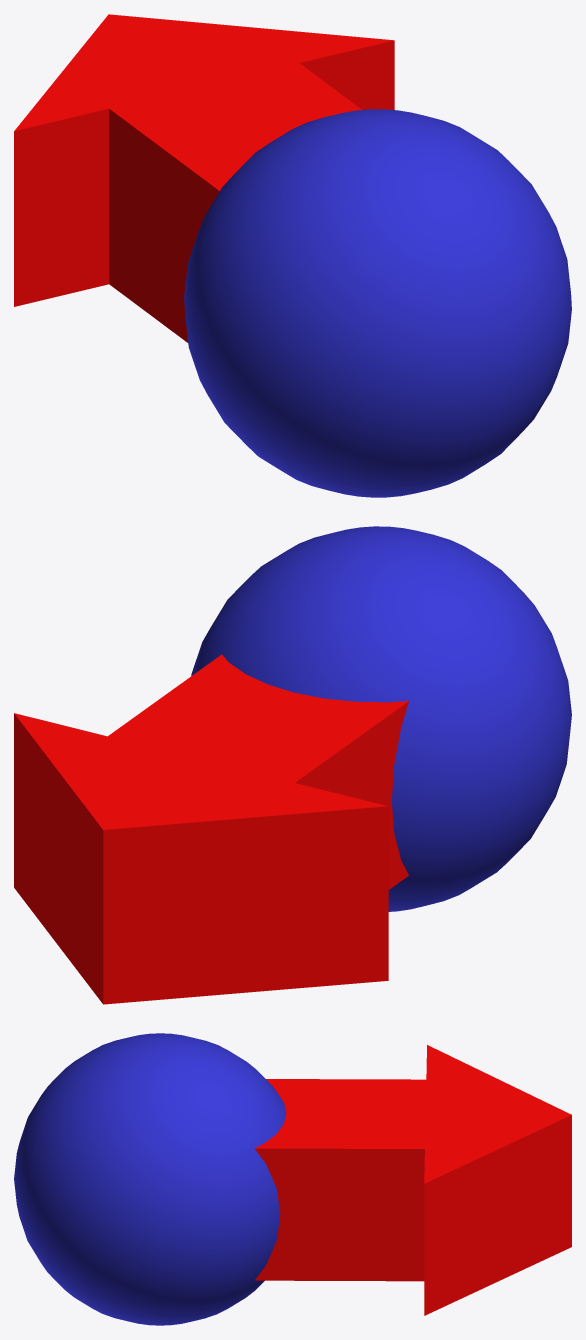
File: player_start.obj
3 views of the same model, one above another, from view 1: azimuth 30°, elevation 25°; view 2: azimuth 150°, elevation 25°; view 3: azimuth 270°, elevation 25° (orthographic). The views are drawn at different scales.
Parts seen in each view (by area): view 1: Sphere, arrow_Cube.001; view 2: arrow_Cube.001, Sphere; view 3: Sphere, arrow_Cube.001.
Part boxes in pixels (left/top/right/bottom): Sphere: left=184, top=109, right=571, bottom=497; arrow_Cube.001: left=14, top=14, right=394, bottom=342; arrow_Cube.001: left=14, top=654, right=408, bottom=1004; Sphere: left=191, top=526, right=571, bottom=911; Sphere: left=14, top=1033, right=286, bottom=1325; arrow_Cube.001: left=254, top=1045, right=571, bottom=1315.
Bounding box in the file's own units: 0.9 × 0.8 × 1.53.
